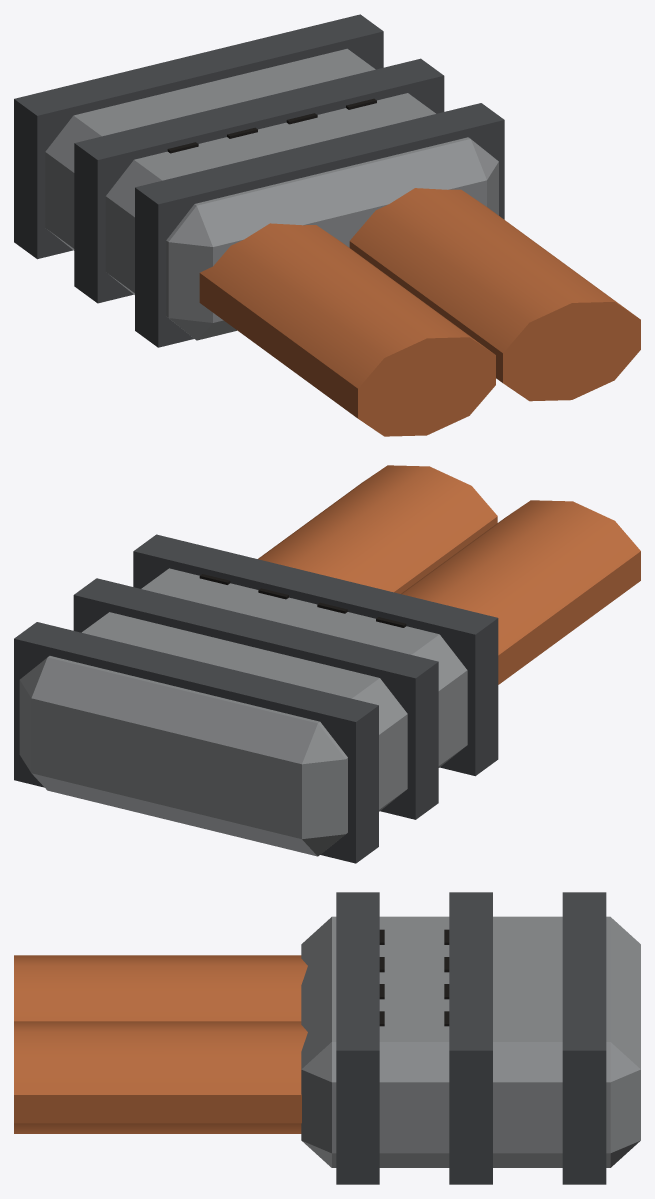
File: heat-pipe-ending-down.glb
3 renders of one model, top to bottom at view 1: azimuth 30°, elevation 25°; view 2: azimuth 150°, elevation 25°; view 3: azimuth 270°, elevation 25°, orthographic. The views are drawn at different scales.
Parts seen in each view (by area): view 1: body; view 2: body; view 3: body.
Boxes of the visible parts, x1,y1,x2,y2 form: body: (14,14,640,436); body: (14,465,640,863); body: (14,892,640,1184).
Size of the model in its own units: 0.43 by 0.17 by 0.72.
